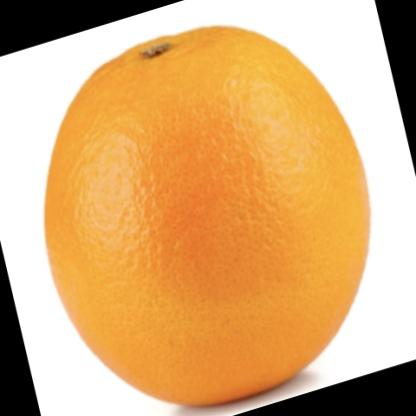fresh: (41, 26, 371, 403)
